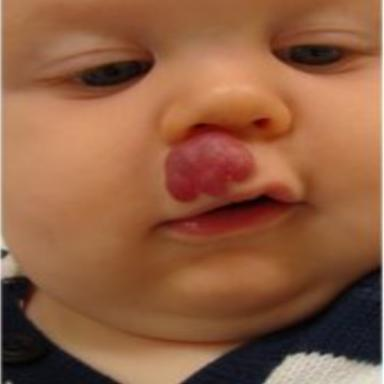Hemangiome: (166, 131, 253, 200)
